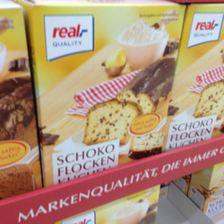cake: (21, 1, 186, 191)
